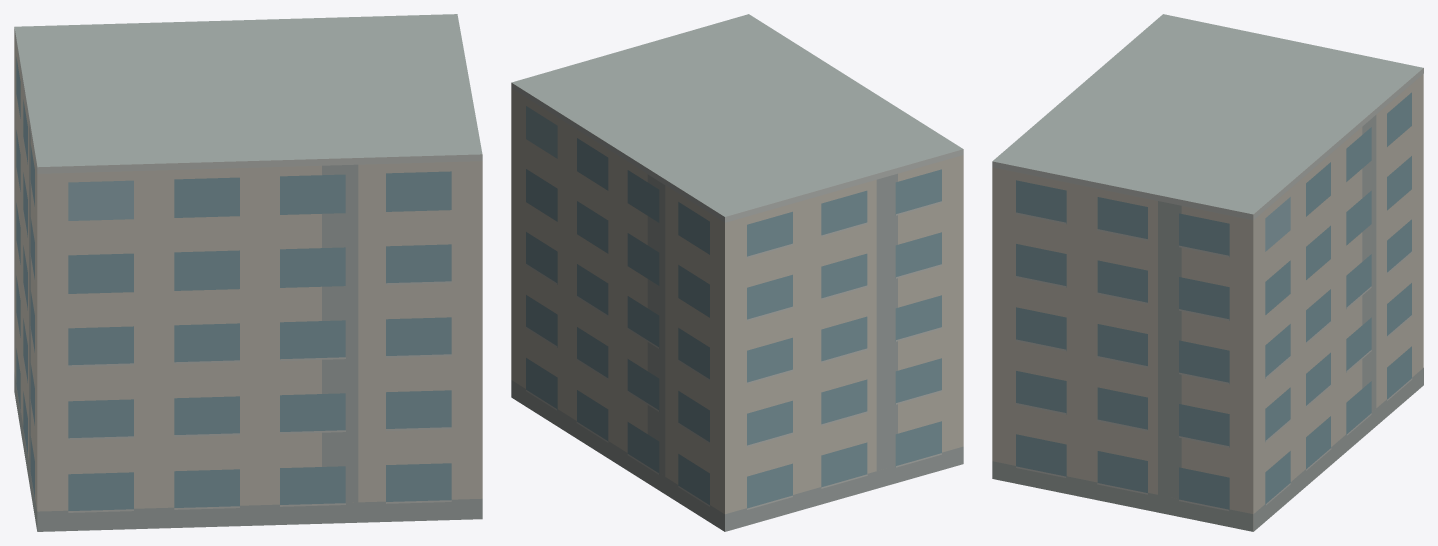
Rendered from survey-upis-32891845.glb.
3 views of the same model, side by side, from view 1: azimuth 30°, elevation 25°; view 2: azimuth 150°, elevation 25°; view 3: azimuth 270°, elevation 25° (orthographic). The views are drawn at different scales.
Parts seen in each view (by area): view 1: survey-upis-32891845.tmp; view 2: survey-upis-32891845.tmp; view 3: survey-upis-32891845.tmp.
Boxes of the visible parts, bbox=[...] form: survey-upis-32891845.tmp: bbox=[14, 14, 482, 531]; survey-upis-32891845.tmp: bbox=[511, 14, 963, 531]; survey-upis-32891845.tmp: bbox=[992, 14, 1423, 531].
Size of the model in its own units: 17.89 by 13.2 by 16.27.
